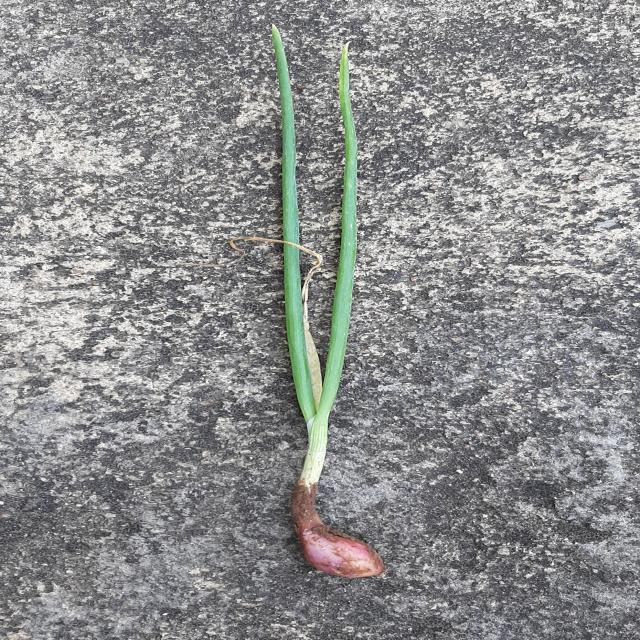onion: (271, 26, 385, 578)
